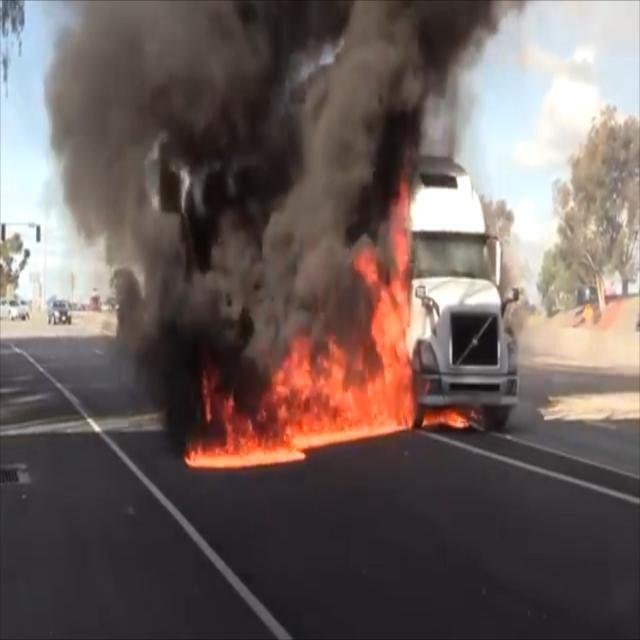fire: (180, 245, 479, 472)
